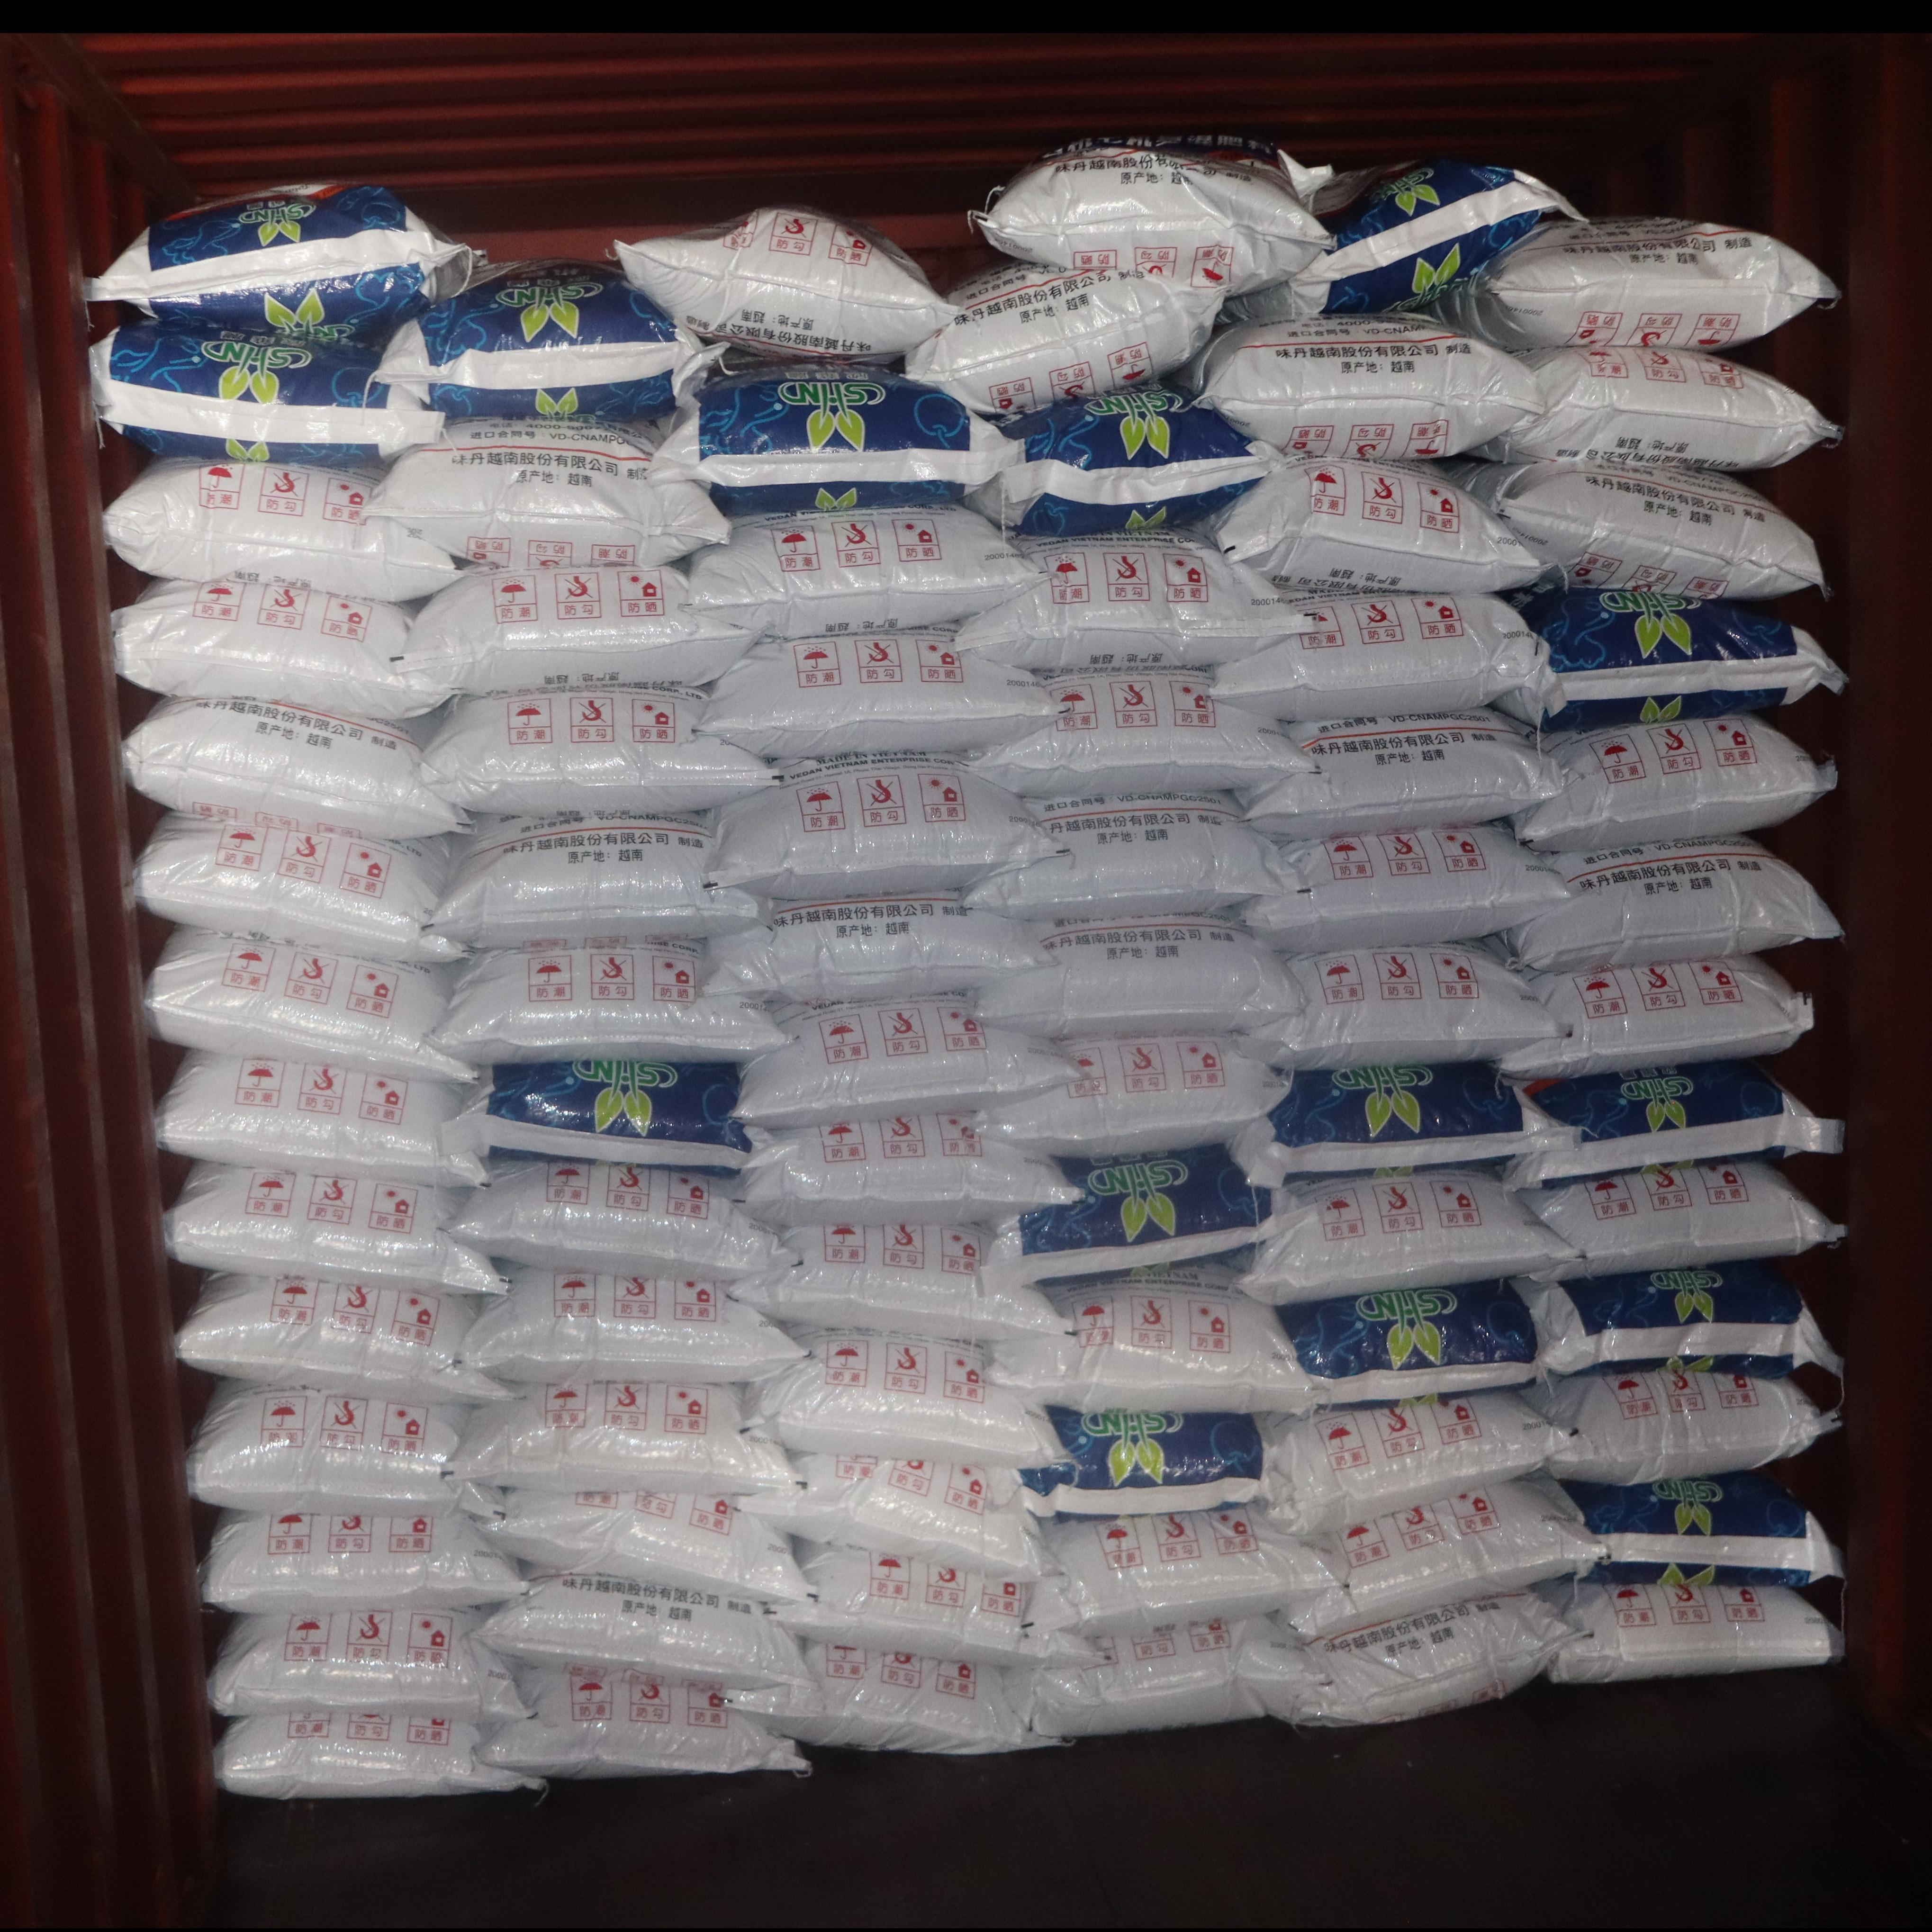sack: (87, 184, 471, 347), (1224, 159, 1583, 322), (1269, 1474, 1606, 1642), (977, 134, 1332, 294), (366, 416, 727, 570), (662, 364, 1017, 515), (379, 260, 709, 419), (1440, 218, 1836, 350), (617, 203, 950, 359), (1451, 460, 1824, 598), (1187, 315, 1543, 458), (715, 752, 1056, 901), (147, 927, 476, 1081), (104, 458, 456, 602), (1495, 589, 1845, 731), (906, 262, 1221, 418), (955, 536, 1309, 674), (90, 322, 442, 460), (136, 814, 462, 962), (124, 699, 467, 839), (113, 577, 455, 717), (428, 810, 766, 950), (690, 504, 1042, 637), (1237, 1168, 1576, 1304), (968, 389, 1283, 536), (423, 685, 775, 816), (701, 628, 1053, 759), (993, 1261, 1295, 1414), (1506, 837, 1840, 973), (1215, 458, 1545, 596), (1476, 347, 1840, 471), (734, 996, 1074, 1129), (156, 1051, 483, 1187), (430, 941, 784, 1067), (1511, 715, 1836, 851), (403, 566, 755, 692), (970, 671, 1315, 798), (165, 1162, 504, 1292), (189, 1382, 502, 1522), (747, 1327, 1060, 1467), (1261, 1391, 1564, 1534), (449, 1157, 794, 1283), (1217, 593, 1557, 720), (1233, 1062, 1573, 1189), (177, 1274, 508, 1401), (966, 791, 1284, 922), (1511, 1060, 1842, 1185), (982, 1143, 1270, 1286), (1238, 709, 1562, 837), (1244, 824, 1568, 952), (778, 1543, 1102, 1667), (1240, 947, 1562, 1069), (462, 1267, 803, 1382), (453, 1378, 789, 1495), (1513, 1161, 1844, 1279), (978, 918, 1302, 1039), (1030, 1507, 1330, 1637), (738, 1111, 1077, 1224), (479, 1573, 809, 1690), (740, 1454, 1044, 1580), (478, 1663, 807, 1778), (736, 1223, 1058, 1339), (1527, 1364, 1838, 1484), (1502, 955, 1812, 1076), (1516, 1261, 1840, 1376), (481, 1488, 809, 1601), (1016, 1621, 1332, 1737), (704, 892, 1044, 1000), (439, 1060, 757, 1175), (1309, 1591, 1580, 1723), (987, 1035, 1284, 1155), (736, 1642, 1051, 1755), (211, 1606, 525, 1718), (1274, 1279, 1537, 1407), (1536, 1575, 1844, 1683), (1559, 1470, 1842, 1587), (203, 1513, 525, 1614), (216, 1709, 538, 1799), (1021, 1408, 1270, 1516)
